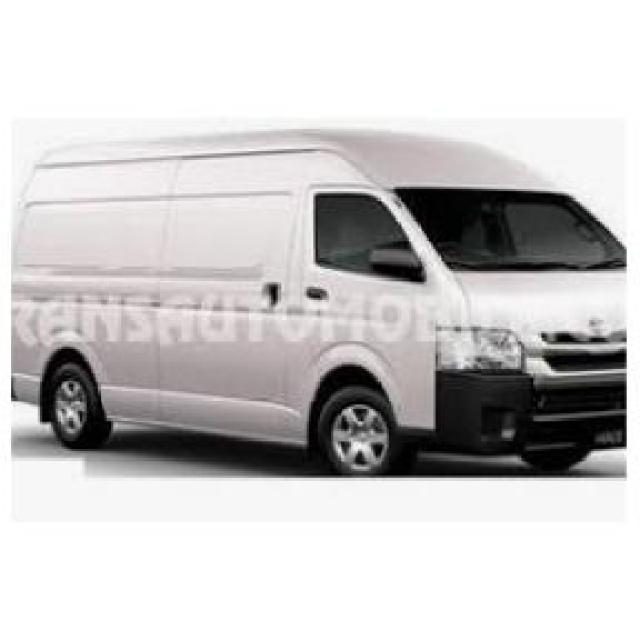Van: (10, 131, 629, 479)
